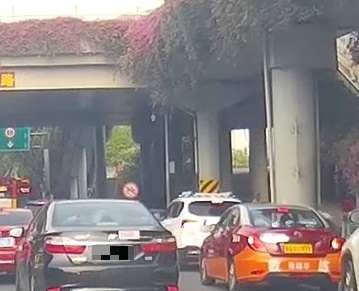L_light: (44, 236, 86, 254), (247, 235, 282, 254)
R_light: (141, 236, 177, 252), (314, 235, 344, 254)
T_light: (96, 222, 118, 226), (277, 208, 289, 212)
day-brake: (242, 204, 345, 291)
day-no: (42, 198, 180, 291)
plate_1: (92, 246, 134, 260)
